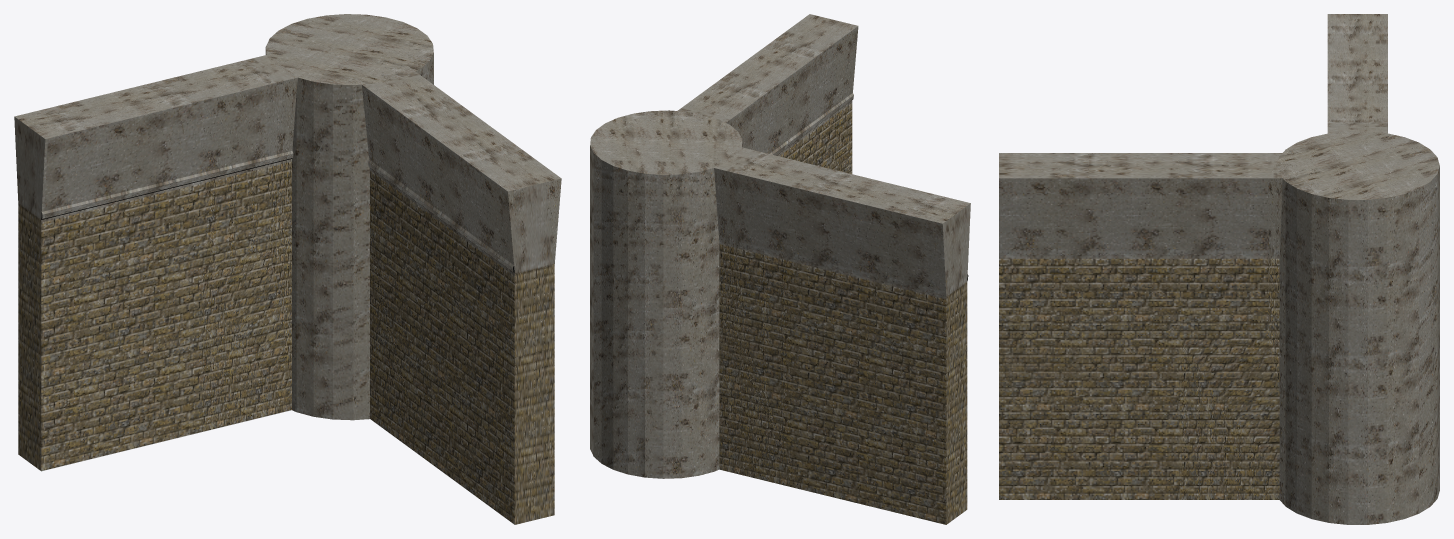
The model's file is basicwall_corner.fbx.
The picture shows the model from 3 angles, left to right: view 1: azimuth 30°, elevation 25°; view 2: azimuth 150°, elevation 25°; view 3: azimuth 270°, elevation 25°; orthographic projection. The views are drawn at different scales.
Parts seen in each view (by area): view 1: Cylinder; view 2: Cylinder; view 3: Cylinder.
Boxes of the visible parts, box(x1,y1,x2,y2) form: Cylinder: box(14, 14, 561, 524); Cylinder: box(590, 14, 970, 524); Cylinder: box(999, 14, 1439, 524).
Bounding box in the file's own units: 491 × 400 × 492.
Materials: 1 (1 with a texture image).
